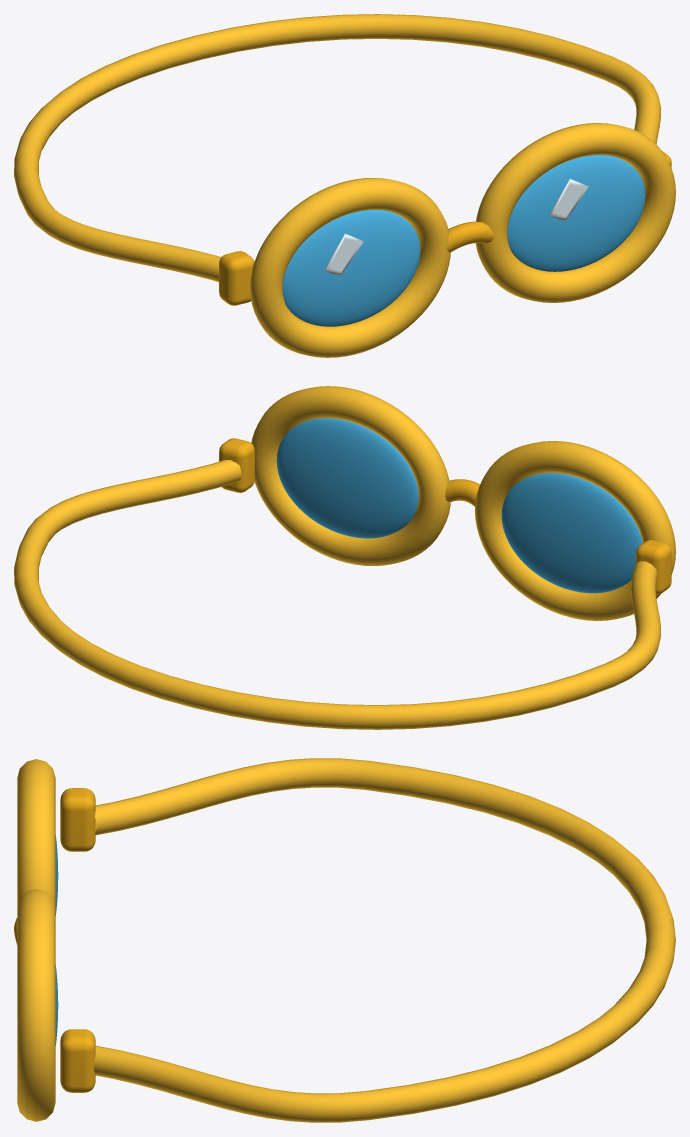
Rendered from goggles.glb.
The picture shows the model from 3 angles, top to bottom: view 1: azimuth 30°, elevation 25°; view 2: azimuth 150°, elevation 25°; view 3: azimuth 270°, elevation 25°; orthographic projection. The views are drawn at different scales.
Visible parts, largest first — view 1: adjustable_goggle_strap, goggle_rim, goggle_rim.001, blue_lens, blue_lens.001, goggle_side_clip, goggle_bridge, lens_reflection, lens_reflection.001; view 2: adjustable_goggle_strap, goggle_rim.001, goggle_rim, blue_lens.001, blue_lens, goggle_side_clip.001, goggle_side_clip, goggle_bridge; view 3: adjustable_goggle_strap, goggle_rim.001, goggle_rim, goggle_side_clip, goggle_side_clip.001.
Part boxes in pixels (left/top/right/bottom): adjustable_goggle_strap: left=14, top=14, right=660, bottom=282; goggle_rim: left=250, top=178, right=450, bottom=357; goggle_rim.001: left=475, top=123, right=675, bottom=302; blue_lens: left=282, top=210, right=420, bottom=326; blue_lens.001: left=507, top=155, right=645, bottom=271; goggle_side_clip: left=219, top=251, right=254, bottom=305; goggle_bridge: left=446, top=221, right=494, bottom=252; lens_reflection: left=324, top=233, right=363, bottom=276; lens_reflection.001: left=549, top=179, right=588, bottom=221; adjustable_goggle_strap: left=14, top=460, right=660, bottom=729; goggle_rim.001: left=251, top=386, right=450, bottom=565; goggle_rim: left=475, top=441, right=675, bottom=620; blue_lens.001: left=276, top=418, right=418, bottom=538; blue_lens: left=501, top=473, right=642, bottom=593; goggle_side_clip.001: left=219, top=438, right=254, bottom=492; goggle_side_clip: left=636, top=540, right=671, bottom=594; goggle_bridge: left=445, top=479, right=479, bottom=506; adjustable_goggle_strap: left=93, top=758, right=675, bottom=1122; goggle_rim.001: left=17, top=889, right=55, bottom=1121; goggle_rim: left=17, top=759, right=55, bottom=907; goggle_side_clip: left=60, top=788, right=95, bottom=851; goggle_side_clip.001: left=60, top=1029, right=95, bottom=1092.
Bounding box in the file's own units: 0.8987 × 0.245 × 0.7231.
